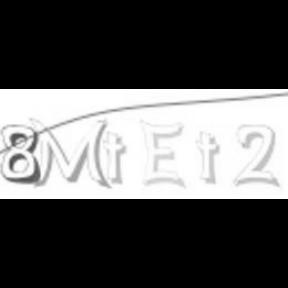2: (234, 123, 282, 189)
8: (1, 123, 42, 185)
E: (136, 118, 186, 188)
M: (28, 116, 108, 190)
t: (194, 131, 222, 186), (104, 131, 128, 185)
